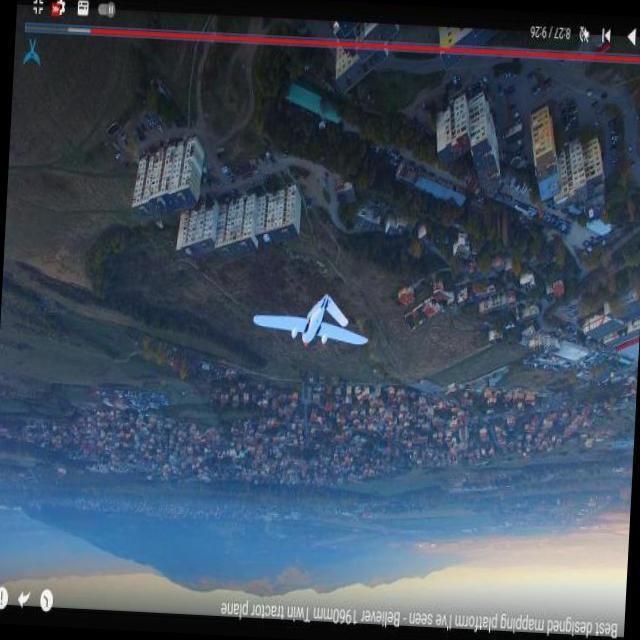iha: (297, 311, 320, 328)
